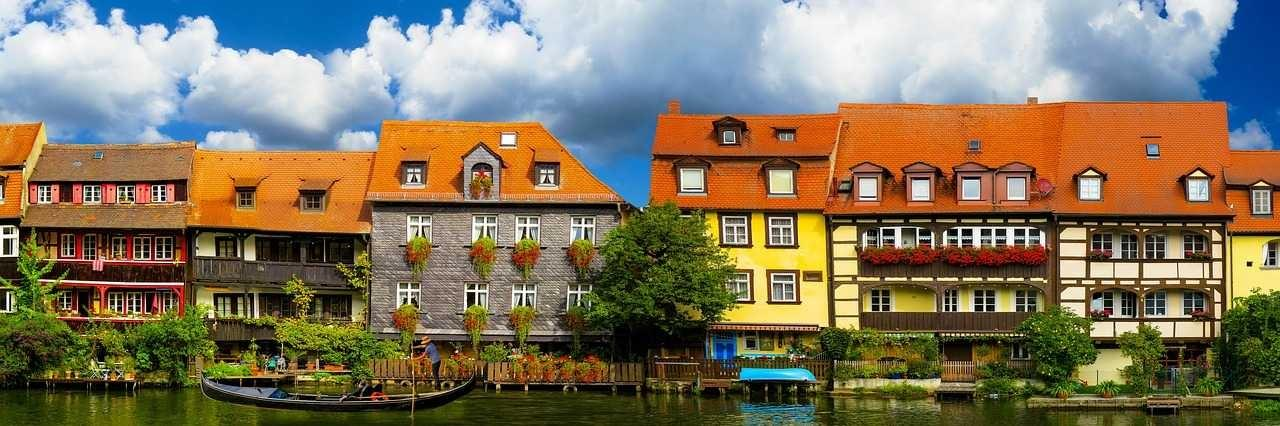kayak: (199, 363, 478, 415)
